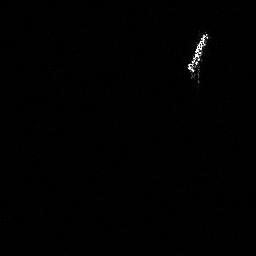ship: (184, 27, 213, 81)
